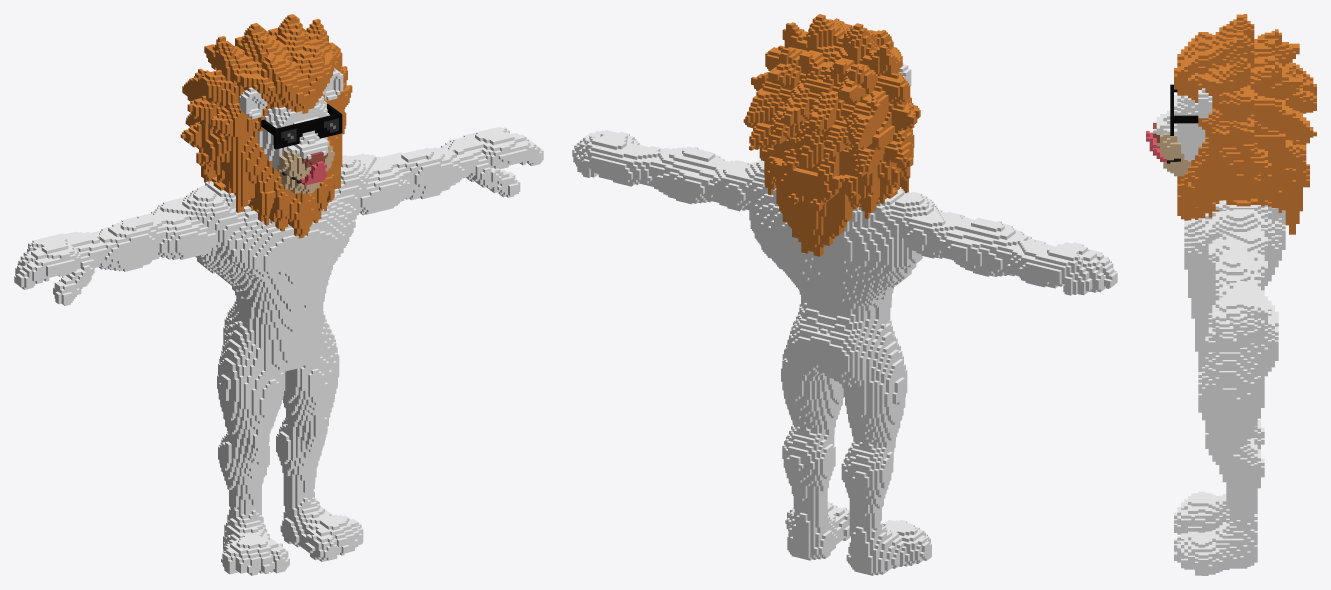
3 renders of one model, left to right at view 1: azimuth 30°, elevation 25°; view 2: azimuth 150°, elevation 25°; view 3: azimuth 270°, elevation 25°, orthographic. The views are drawn at different scales.
Visible parts, largest first — view 1: licking_nose; view 2: licking_nose; view 3: licking_nose.
Boxes of the visible parts, x1,y1,x2,y2 form: licking_nose: [14, 14, 543, 575]; licking_nose: [572, 14, 1117, 575]; licking_nose: [1146, 14, 1316, 575].
Bounding box in the file's own units: 17.2 × 16.5 × 4.9.
4 materials, 4 textured.
